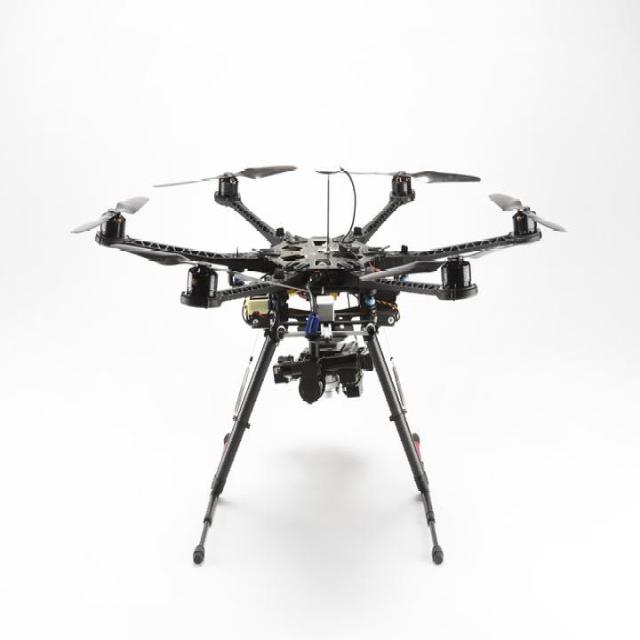drone: (68, 131, 569, 541)
